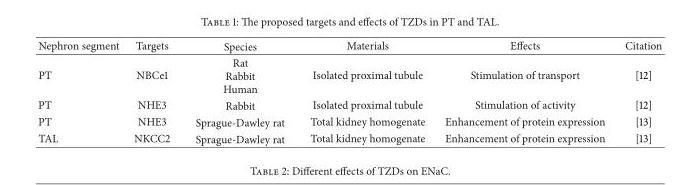table: (37, 37, 661, 146)
table column: (434, 37, 614, 146), (296, 37, 434, 146), (182, 37, 296, 146), (37, 37, 125, 146), (125, 37, 182, 146), (614, 37, 661, 146)
table column header: (37, 37, 661, 54)
table row: (37, 54, 661, 96), (37, 37, 661, 54), (37, 96, 661, 113), (37, 129, 661, 146), (37, 113, 661, 129)
